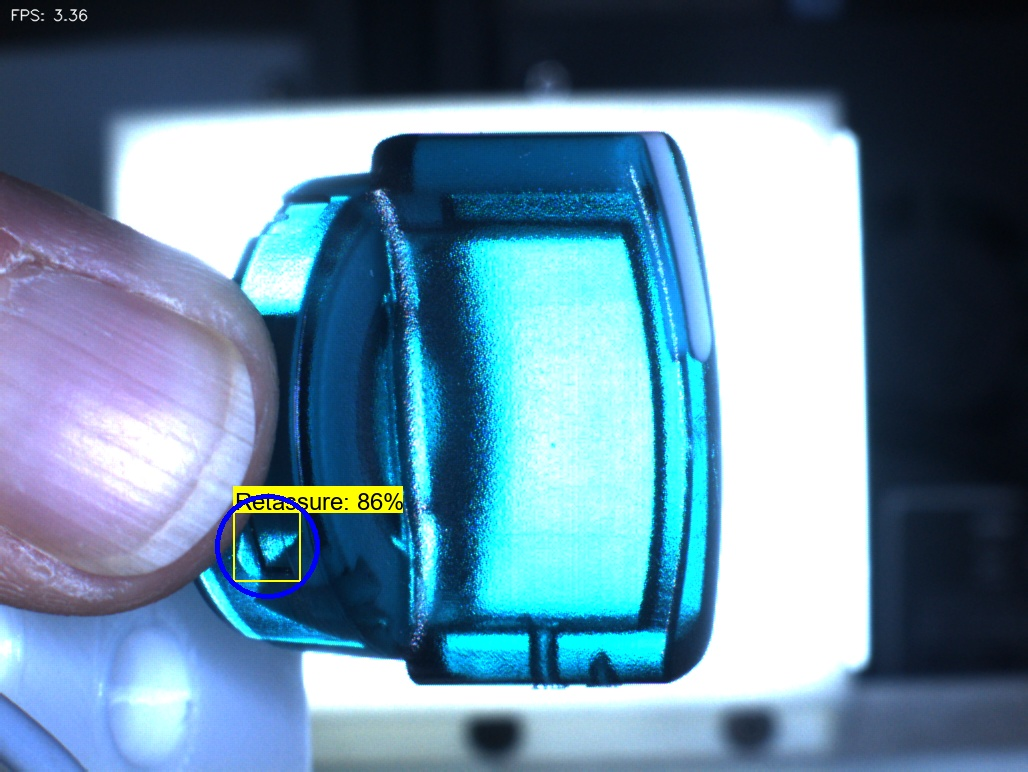Bulle: (570, 629, 651, 723)
